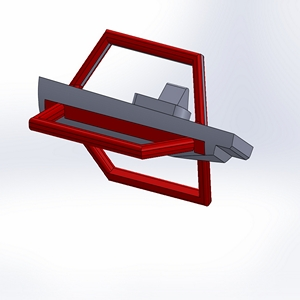submarine: (16, 9, 267, 219)
